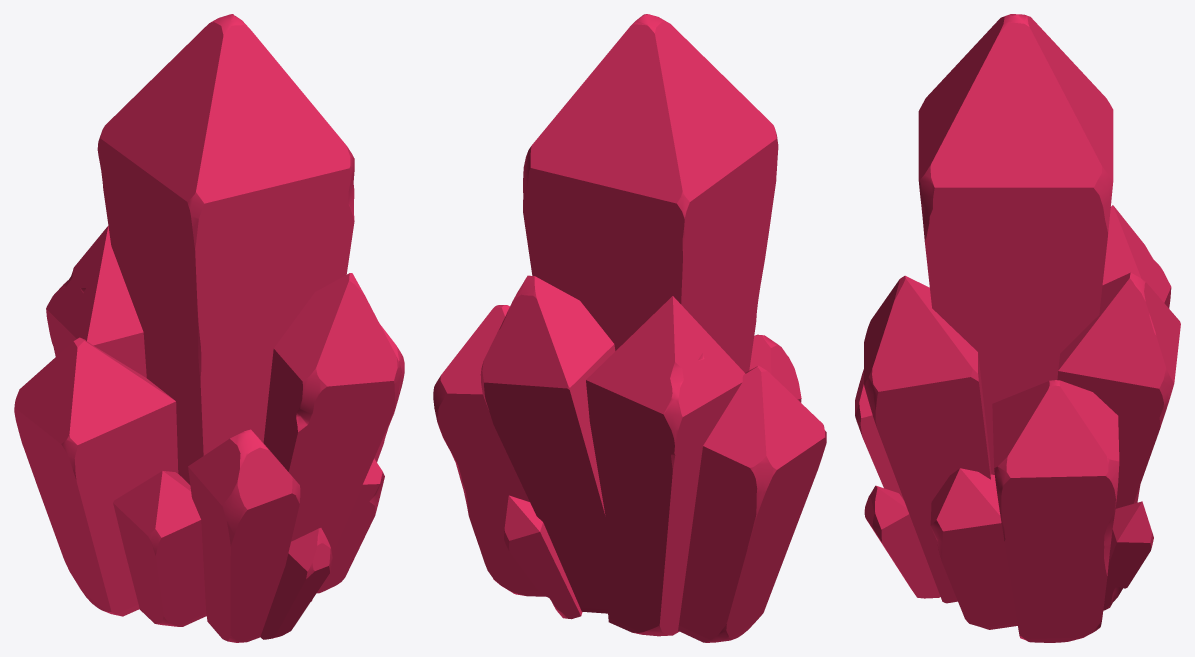
Rendered from crystal-SP.fbx.
The picture shows the model from 3 angles, left to right: view 1: azimuth 30°, elevation 25°; view 2: azimuth 150°, elevation 25°; view 3: azimuth 270°, elevation 25°; orthographic projection.
Visible parts, largest first — view 1: Cube.015_dmg; view 2: Cube.015_dmg; view 3: Cube.015_dmg.
Part boxes in pixels (left/top/right/bottom): Cube.015_dmg: left=14, top=14, right=404, bottom=642; Cube.015_dmg: left=433, top=14, right=826, bottom=642; Cube.015_dmg: left=855, top=14, right=1180, bottom=642.
Bounding box in the file's own units: 357 × 584 × 295.
